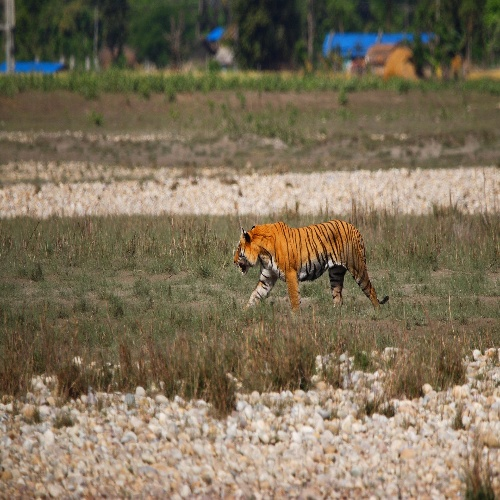tiger: (196, 197, 418, 352)
